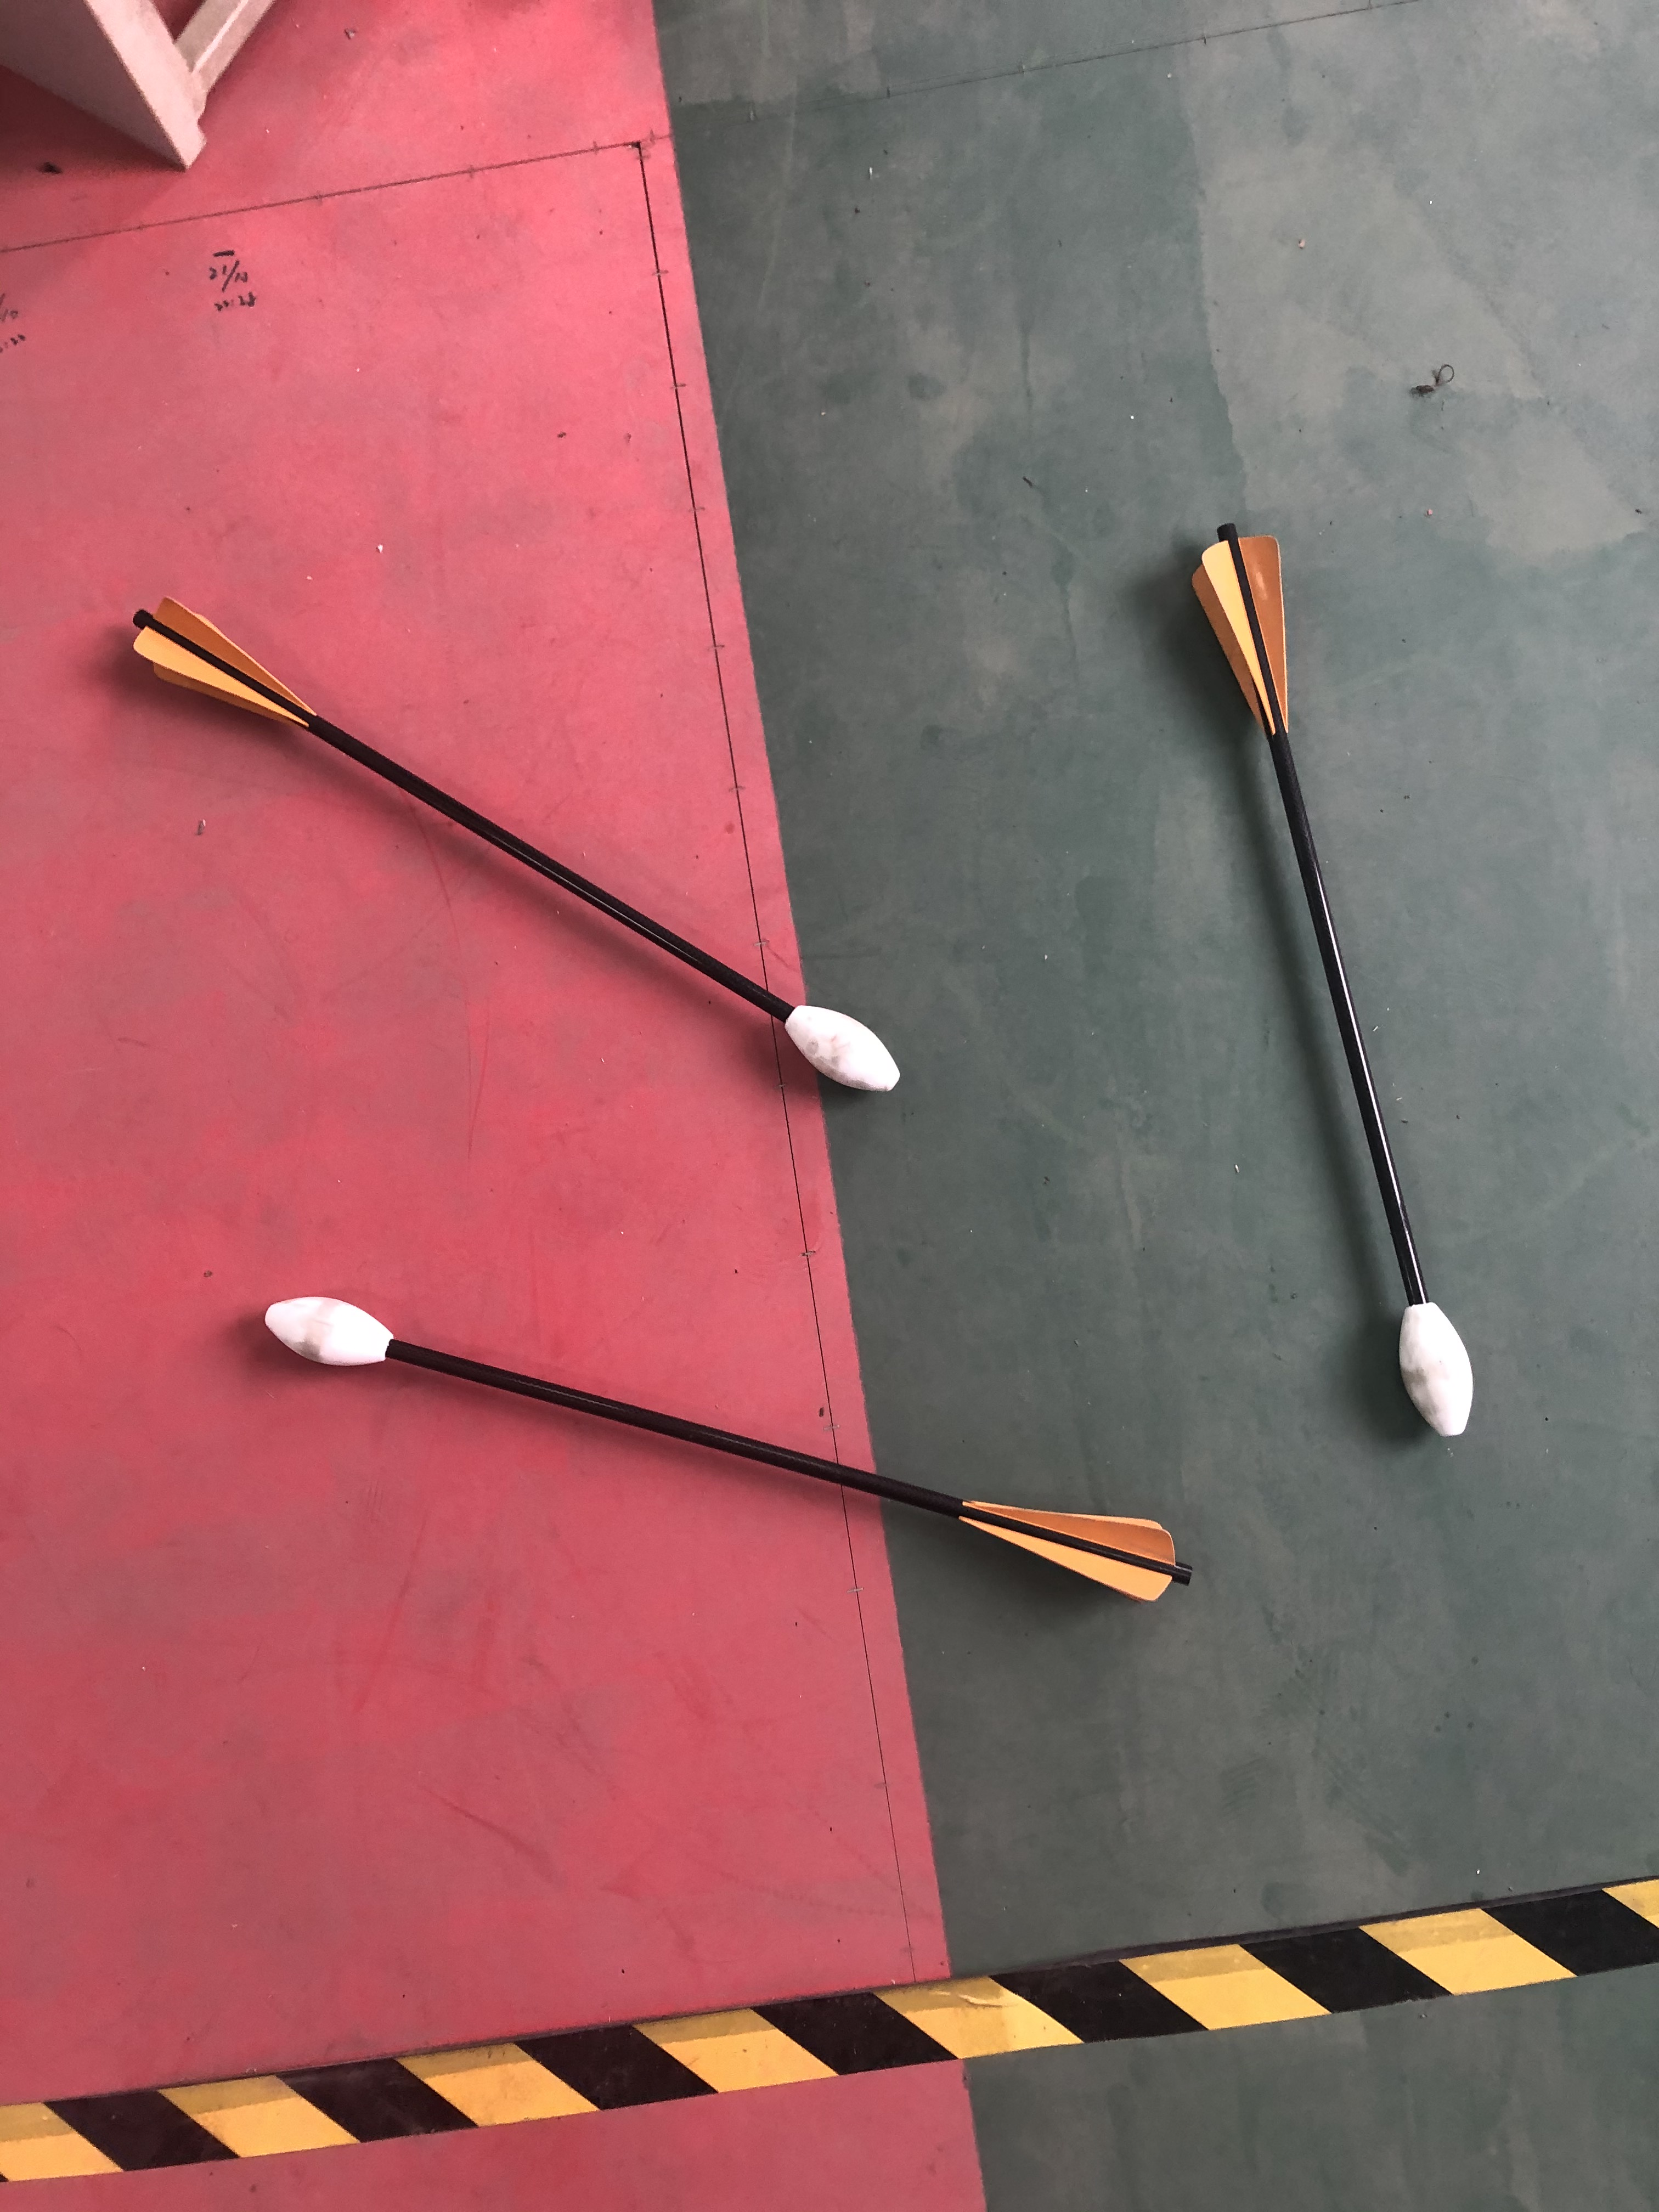arrow: (125, 583, 910, 1101), (258, 1277, 1204, 1613), (1183, 521, 1476, 1439)
arrowFront: (777, 995, 901, 1090), (1394, 1299, 1481, 1435), (263, 1292, 404, 1372)
